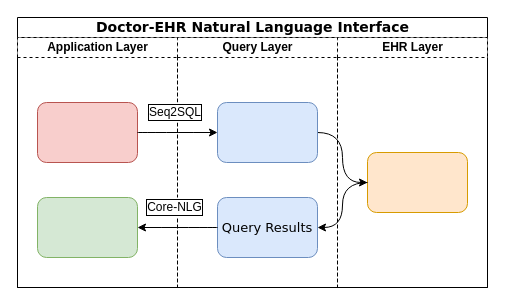
This 505x305 diagram has some shape labels left out. The shapes that lost their labels are listed below. From the top down, each one's centre as x and y in pixels, then its label:
the point at 87,132: Physician's Question
the point at 267,132: SQL Query
the point at 417,182: FHIR DB
the point at 87,227: Client's Answer
